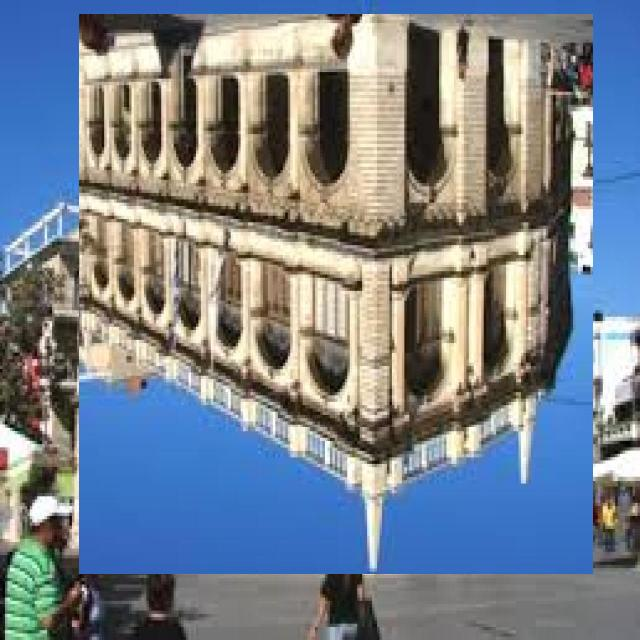Loggia: (80, 15, 594, 575)
